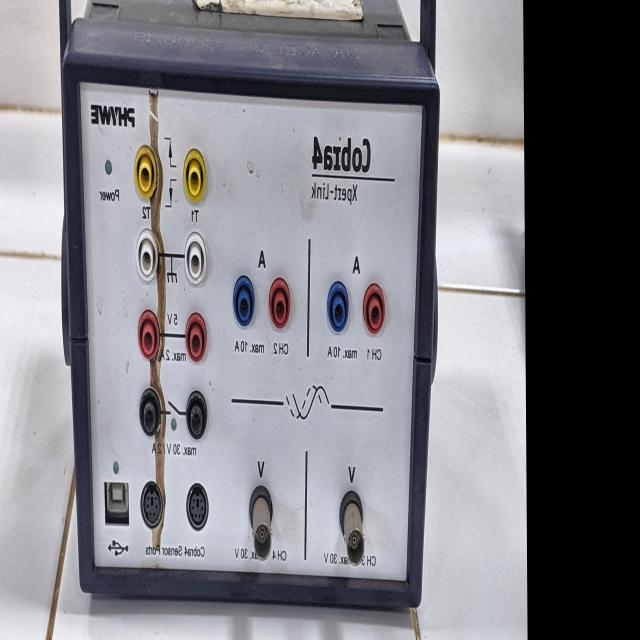Power Supply of Speed of Light Demo: (35, 0, 452, 629)
